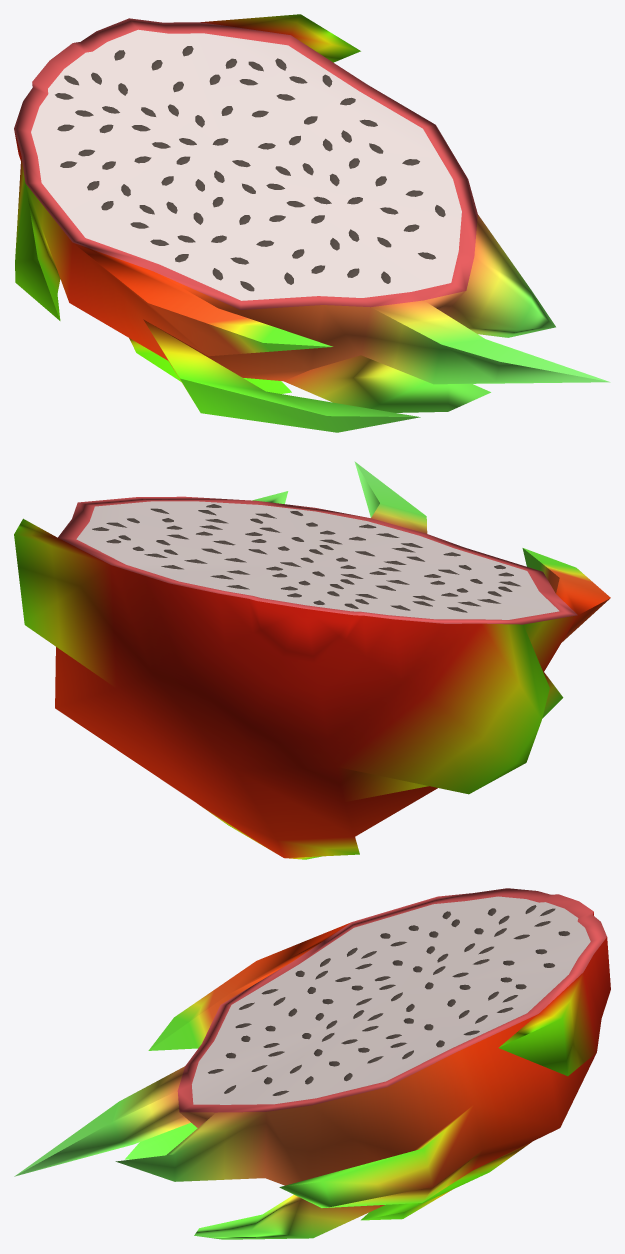
Rendered from SM_Fruits_Dragonfruit_R2.fbx.
The picture shows the model from 3 angles, top to bottom: view 1: azimuth 30°, elevation 25°; view 2: azimuth 150°, elevation 25°; view 3: azimuth 270°, elevation 25°; orthographic projection. The views are drawn at different scales.
Visible parts, largest first — view 1: SM_Fruits_Dragonfruit_R2; view 2: SM_Fruits_Dragonfruit_R2; view 3: SM_Fruits_Dragonfruit_R2.
Part boxes in pixels (x1,y1,x2,y2): SM_Fruits_Dragonfruit_R2: [14, 14, 610, 432]; SM_Fruits_Dragonfruit_R2: [14, 461, 610, 859]; SM_Fruits_Dragonfruit_R2: [14, 888, 610, 1239].
Bounding box in the file's own units: 14.86 × 10.52 × 20.14.
